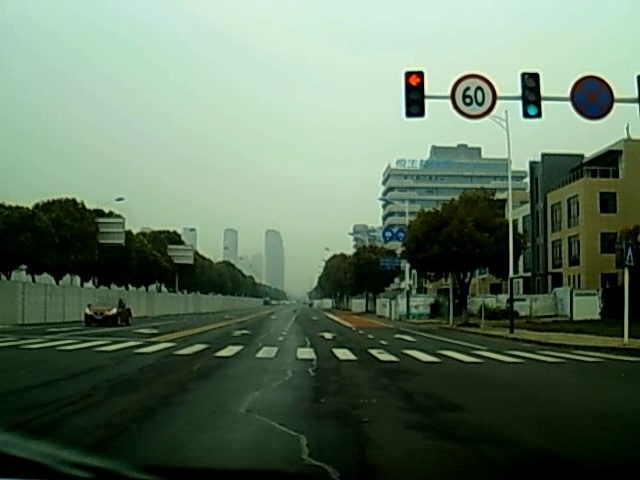Traffic_Light_go: (522, 74, 540, 120)
Traffic_Light_stop: (403, 74, 425, 116)
